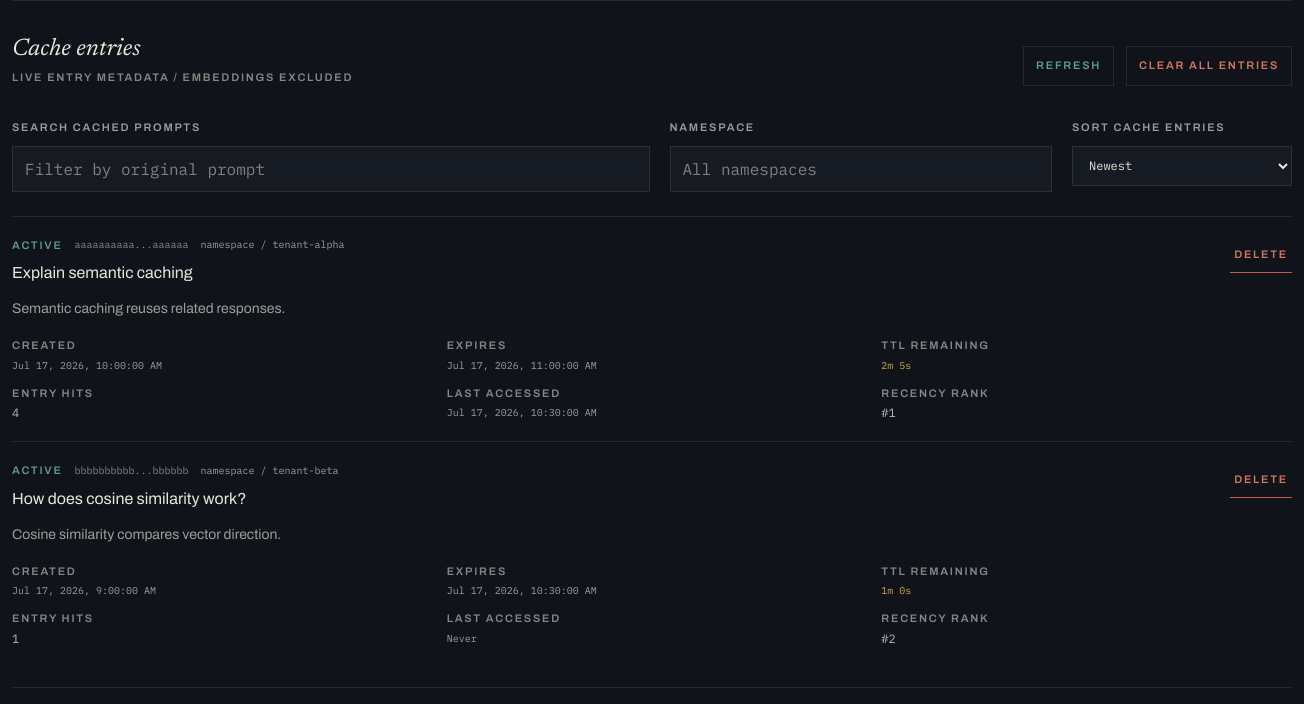
CacheInspector › searches cached prompts through the inspector API
Check: the heading "How does cosine similarity work?" is shown, box [12, 490, 246, 506]
Type "semantic" into the search field labelled "Search cached prompts" at [331, 168], box [12, 146, 650, 192]
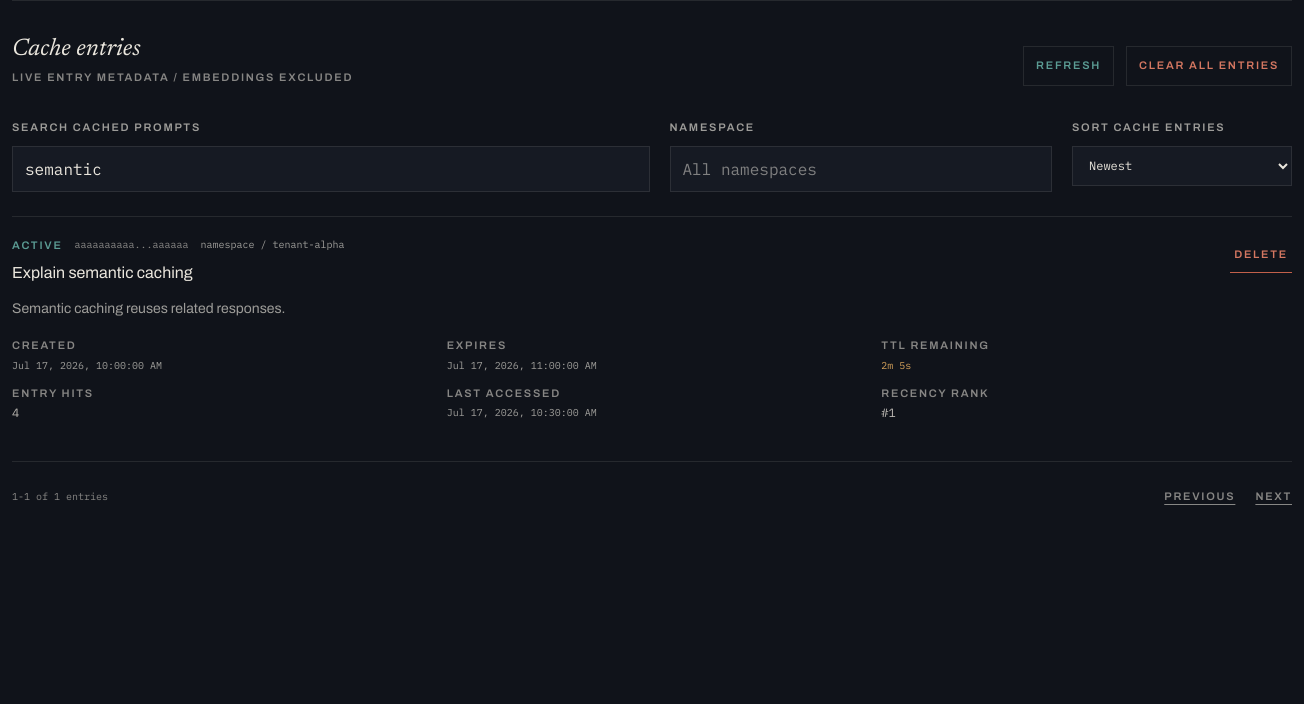
Check: the heading "Explain semantic caching" is shown, box [12, 264, 193, 281]
Check: the heading "How does cosine similarity work?" is gone
